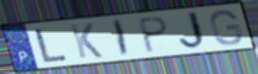G: (208, 9, 244, 47)
I: (112, 18, 130, 58)
J: (178, 10, 211, 52)
K: (68, 22, 105, 60)
L: (33, 27, 70, 64)
P: (138, 15, 171, 55)
